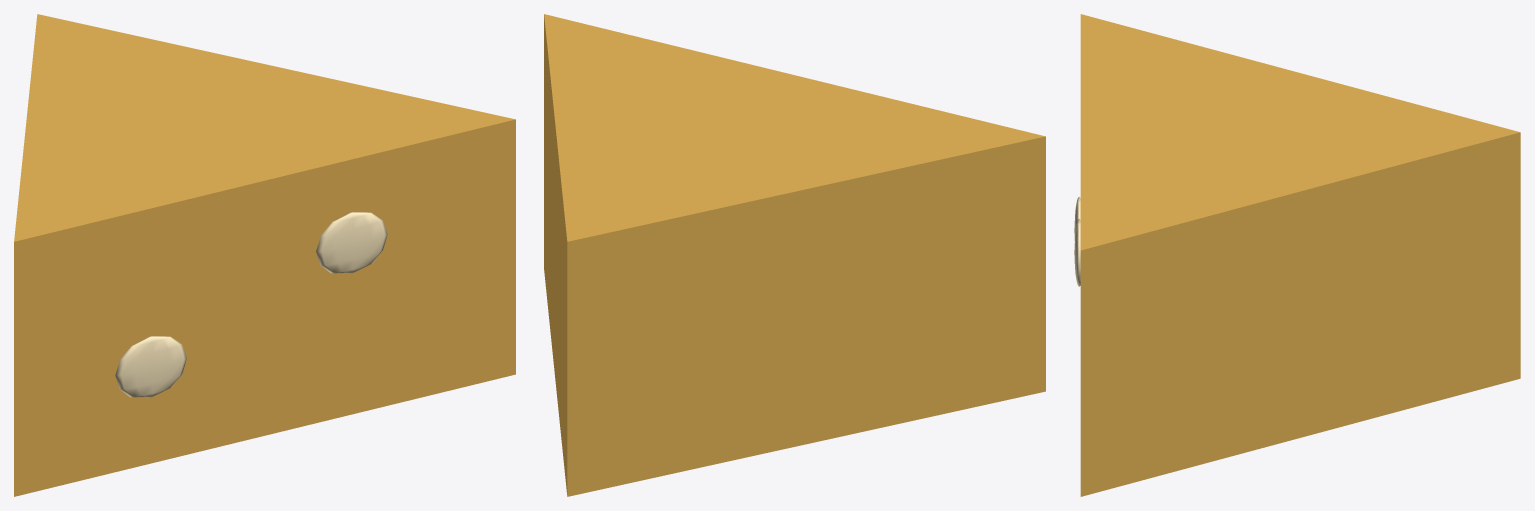
File: goods_cheese.glb
3 renders of one model, left to right at view 1: azimuth 30°, elevation 25°; view 2: azimuth 150°, elevation 25°; view 3: azimuth 270°, elevation 25°, orthographic. The views are drawn at different scales.
Parts seen in each view (by area): view 1: goods_cheese_crafted_mesh; view 2: goods_cheese_crafted_mesh; view 3: goods_cheese_crafted_mesh.
Boxes of the visible parts, x1,y1,x2,y2 form: goods_cheese_crafted_mesh: (14, 14, 515, 496); goods_cheese_crafted_mesh: (544, 14, 1045, 496); goods_cheese_crafted_mesh: (1074, 14, 1520, 496).
Size of the model in its own units: 0.7 by 0.34 by 0.558.
